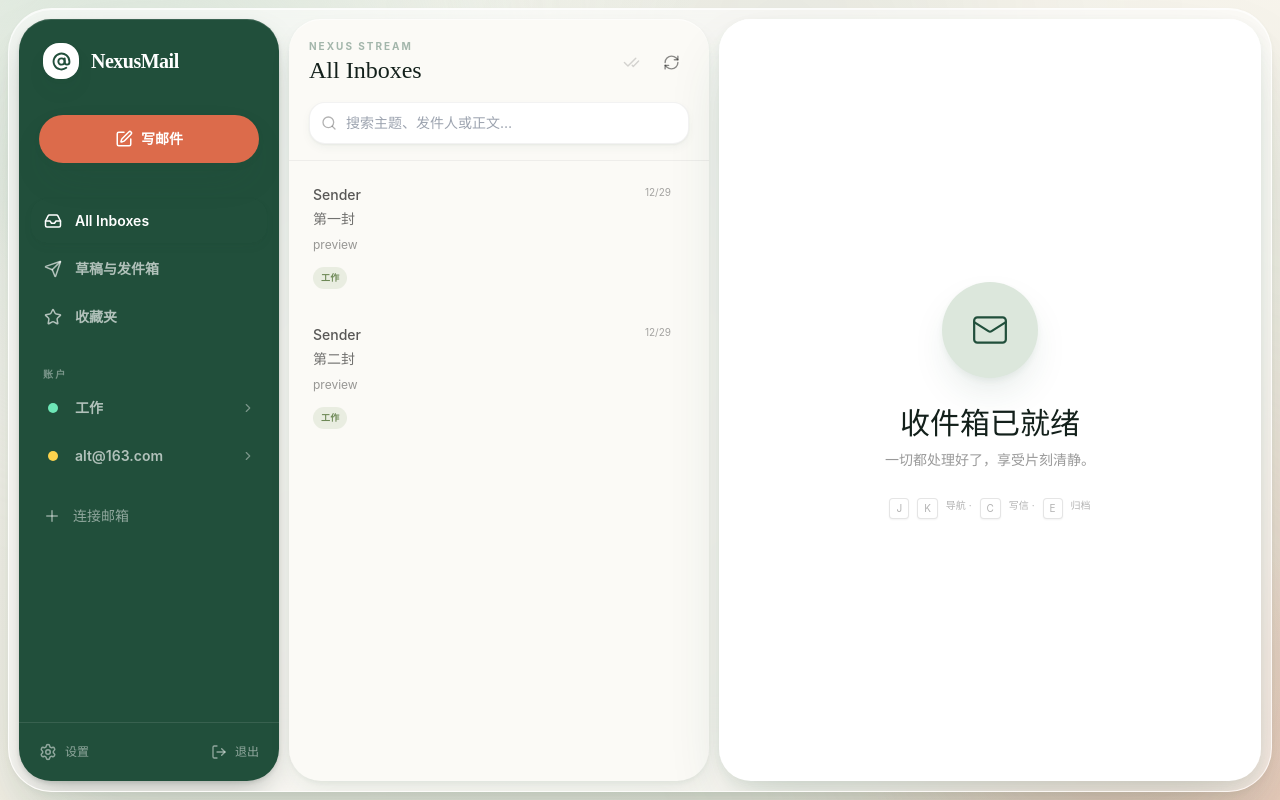
Test case: view scoping › scopes to a mailbox and drops the folder role
The image size is (1280, 800).
Expected: the button "Sender 12/29 第一封 preview 工作" is shown, [297,169,701,304]
What coordinates should you click on to do the following:
click the button "工作"
I would click on:
 (149, 408)
Its box is [31,386,267,430].
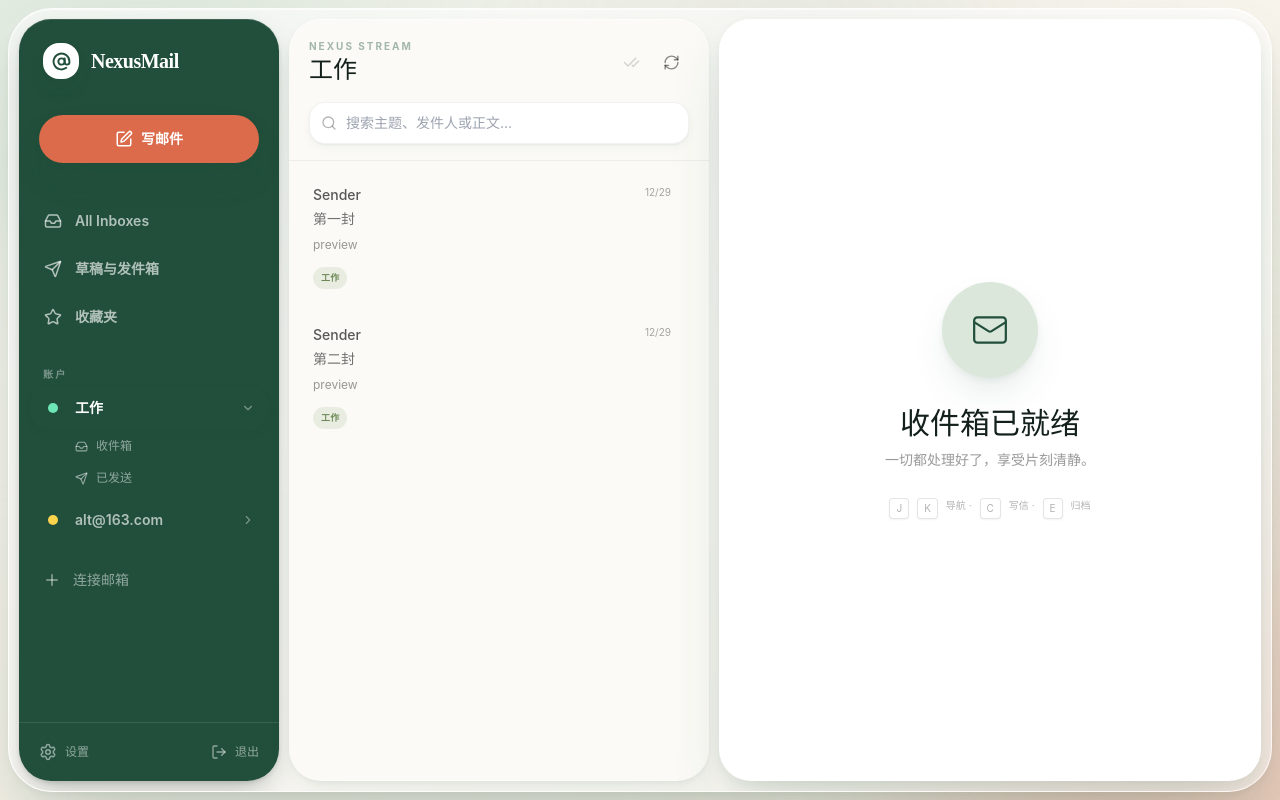
What coordinates should you click on to do the following:
click the button "已发送"
I would click on:
 (161, 478)
Its box is [63,462,259,494].
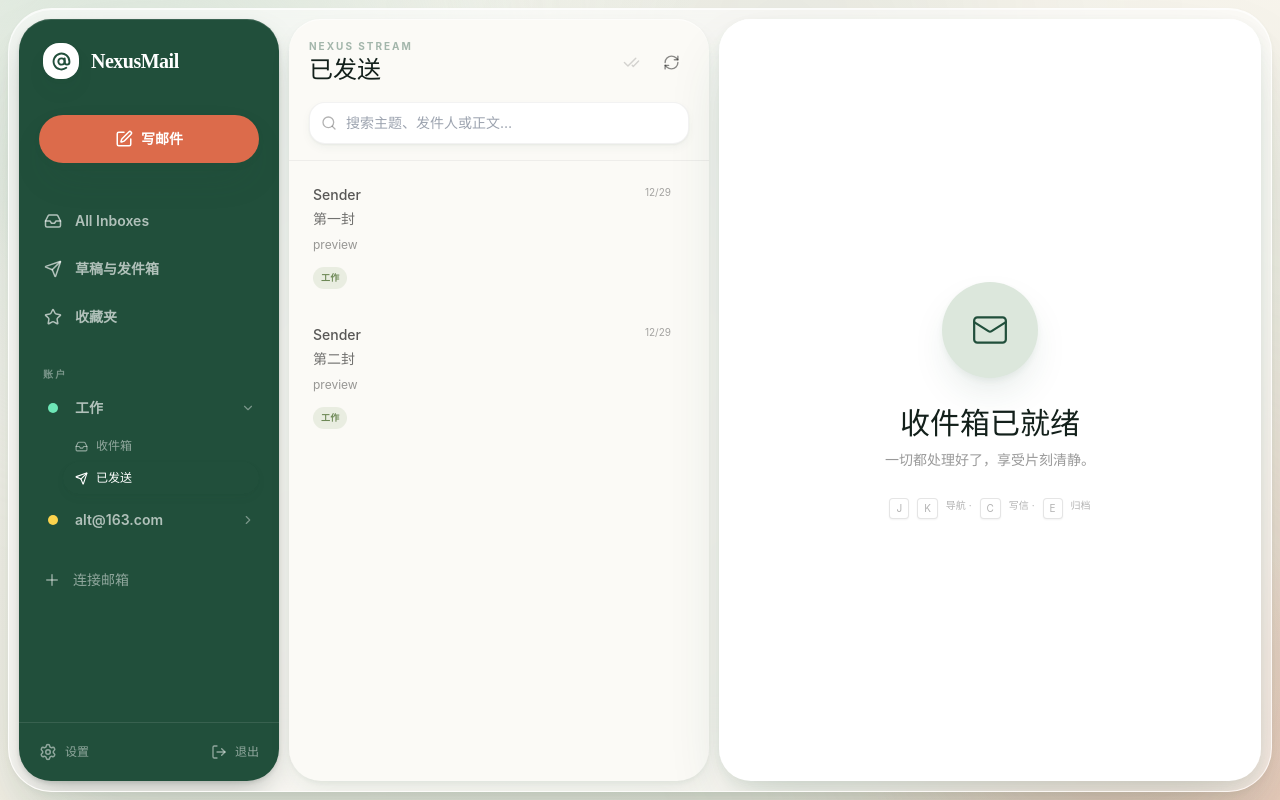
Now the heading "已发送" is shown, box [309,57,381,83]
